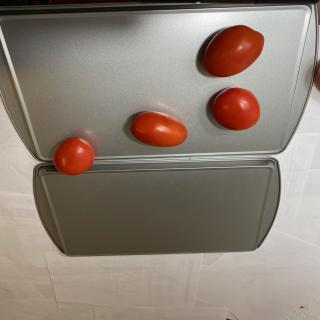Tomato: (203, 24, 264, 78), (212, 86, 260, 130), (130, 111, 188, 147), (53, 137, 95, 176)
